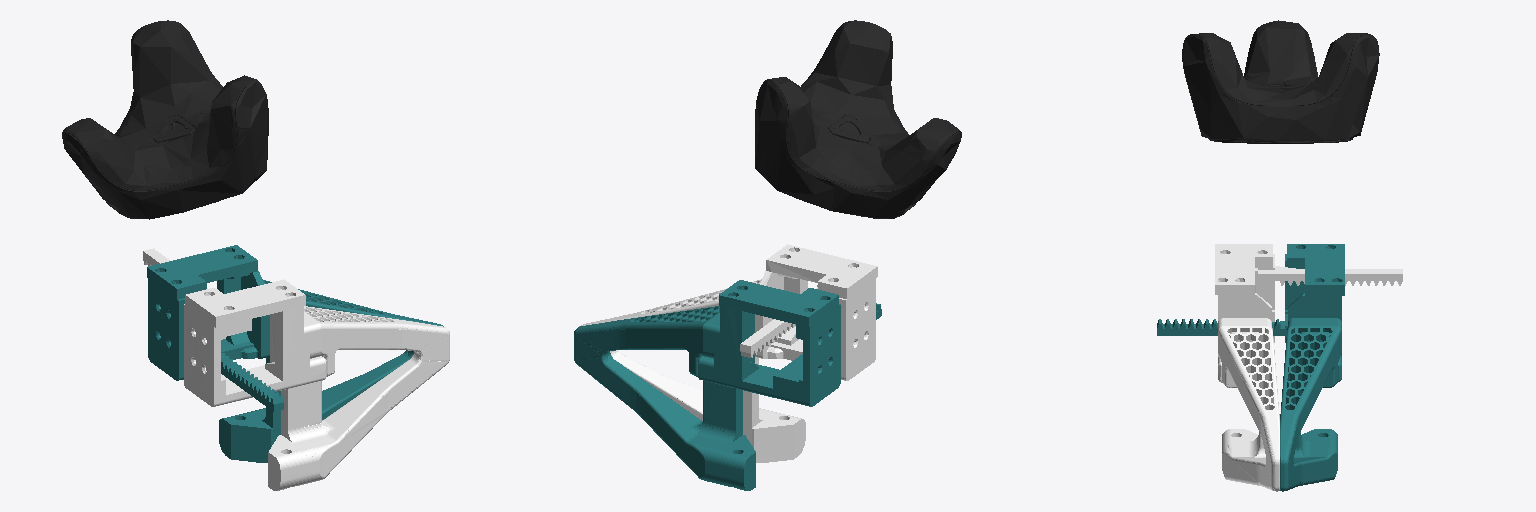
URDF robot description (yumi):
<?xml version="1.0"?>
<!-- yumi handheld UMI device: the body (handle, MF camera housing and tracker seat), two fingers on
     prismatic rails, and the HTC VIVE Tracker 3.0 screwed to the seat.

     From the ONShape export "assembly_2". Each mesh is baked into its own link frame, so every
     <visual><origin> is identity, and mesh paths are relative. Every mesh is decimated (99% of
     vertices within 0.16 mm of the CAD, the worst 2.1 mm off on the body); the tracker mesh is
     HTC's VIVE Tracker 3.0 model. The frames below were measured on the undecimated CAD.

     `base` has +X forward (the way the fingers point), +Y left, +Z up (toward the tracker), with its
     origin on the bottom face of the handle. Each finger joint is 0 closed (the fingertips touch) to
     0.047 m open, along its own axis, outward.

     Three frames, each a fixed child of `base`:
     - `tcp`: the tool centre, midway between the two fingertip end faces, at the fingertips'
       furthest point. +Z forward (along the fingers), +Y down, +X right. It holds at every opening
       while the two fingers open symmetrically.
     - `camera`: the MF camera's optical frame, OpenCV convention (+X image right, +Y image down,
       +Z along the optical axis), with its origin at the centre of the lens face. The optical axis
       points forward and 25 deg down, toward the fingertips.
     - `vive`: the tracker frame, with its origin at the centre of the seat's 1/4" screw hole on the
       face the tracker sits against. +Z points out of the tracker's mounting face, away from its
       dome (into the seat), +Y from the screw toward the tracker's pogo pins, +X completes it.
       This is the frame the tracker mesh is expressed in, so the mesh drops on at identity.

     No <inertial>: the export's masses are part volumes at unit density, and the device is passive.
-->
<robot name="yumi">
    <link name="base">
        <visual>
            <origin xyz="0 0 0" rpy="0 0 0" />
            <geometry>
                <mesh filename="assets/base.stl" scale="1 1 1" />
            </geometry>
            <material name="body_orange">
                <color rgba="1 0.6 0 1" />
            </material>
        </visual>
    </link>

    <link name="left_finger">
        <visual>
            <origin xyz="0 0 0" rpy="0 0 0" />
            <geometry>
                <mesh filename="assets/left_finger.stl" scale="1 1 1" />
            </geometry>
            <material name="finger_teal">
                <color rgba="0.227451 0.545098 0.560784 1" />
            </material>
        </visual>
    </link>
    <joint name="left_finger_joint" type="prismatic">
        <origin xyz="0.0718427 0.0241478 0.139718" rpy="0 0 0" />
        <parent link="base" />
        <child link="left_finger" />
        <axis xyz="0 1 0" />
        <limit effort="1" velocity="1" lower="0" upper="0.047" />
    </joint>

    <link name="right_finger">
        <visual>
            <origin xyz="0 0 0" rpy="0 0 0" />
            <geometry>
                <mesh filename="assets/right_finger.stl" scale="1 1 1" />
            </geometry>
            <material name="finger_white">
                <color rgba="1 1 1 1" />
            </material>
        </visual>
    </link>
    <joint name="right_finger_joint" type="prismatic">
        <origin xyz="0.0718427 -0.0278522 0.135338" rpy="0 0 0" />
        <parent link="base" />
        <child link="right_finger" />
        <axis xyz="0 -1 0" />
        <limit effort="1" velocity="1" lower="0" upper="0.047" />
    </joint>

    <link name="tcp" />
    <joint name="tcp_joint" type="fixed">
        <origin xyz="0.1683328 -0.001852 0.0911592" rpy="-1.570796327 0 -1.570796327" />
        <parent link="base" />
        <child link="tcp" />
    </joint>

    <link name="camera" />
    <joint name="camera_joint" type="fixed">
        <origin xyz="0.1052677 -0.0015498 0.1730542" rpy="-2.007128640 0 -1.570796327" />
        <parent link="base" />
        <child link="camera" />
    </joint>

    <link name="vive">
        <visual>
            <origin xyz="0 0 0" rpy="0 0 0" />
            <geometry>
                <mesh filename="assets/vive_tracker.stl" scale="1 1 1" />
            </geometry>
            <material name="tracker_black">
                <color rgba="0.2 0.2 0.2 1" />
            </material>
        </visual>
    </link>
    <joint name="vive_joint" type="fixed">
        <origin xyz="0.056383 -0.0015481 0.1885038" rpy="-2.792526803 0 -1.570796327" />
        <parent link="base" />
        <child link="vive" />
    </joint>
</robot>

--- What the picture shows (computed from the rendered views, not written in the file) ---
The picture shows the robot from 3 angles, left to right: view 1: azimuth 30°, elevation 25°; view 2: azimuth 150°, elevation 25°; view 3: azimuth 270°, elevation 25°; orthographic projection.
Model yumi with 6 links and 5 joints (2 prismatic, 3 fixed), rooted at base, posed all joints at 0.
Visible links, largest first — view 1: right_finger, vive, left_finger; view 2: left_finger, vive, right_finger; view 3: vive, right_finger, left_finger.
Boxes of the visible links, box(x1,y1,x2,y2) form: right_finger: box(143, 248, 449, 490); vive: box(62, 20, 268, 219); left_finger: box(147, 245, 443, 462); left_finger: box(574, 280, 881, 490); vive: box(755, 20, 961, 218); right_finger: box(579, 244, 877, 462); vive: box(1182, 20, 1379, 143); right_finger: box(1215, 244, 1402, 491); left_finger: box(1157, 244, 1344, 491).
Size in the robot's own frame: 0.1644 by 0.0987 by 0.1802 metres.
Meshes: 4 distinct files referenced, 3 mesh visuals loaded (3 binary STL); not drawn: 1 (reference not matched to a file when rendering).
